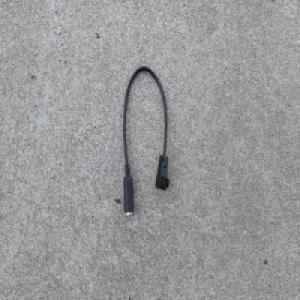Wire: (121, 63, 172, 216)
